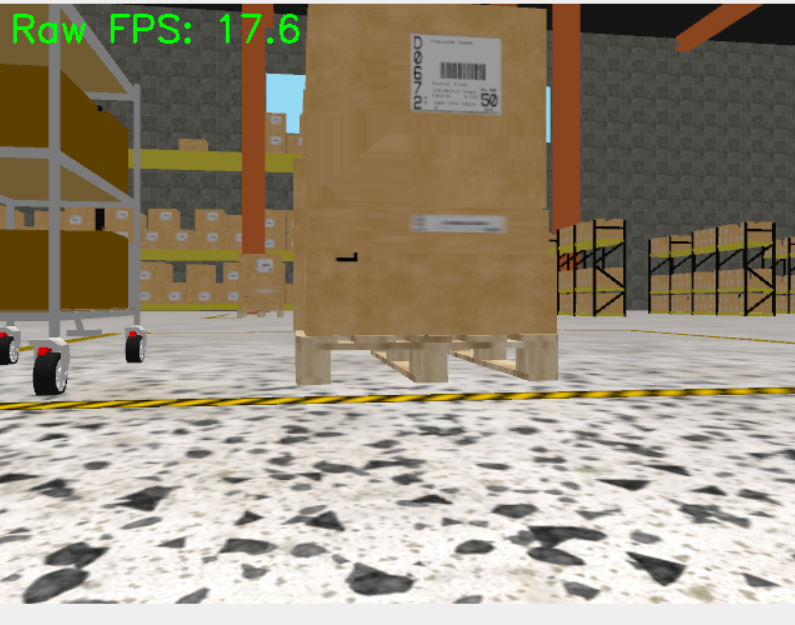barcode: (410, 31, 503, 114)
